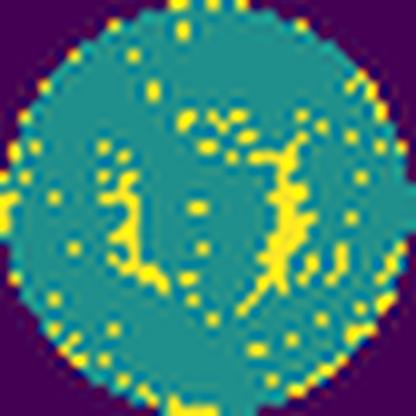Donut: (87, 94, 332, 326)
